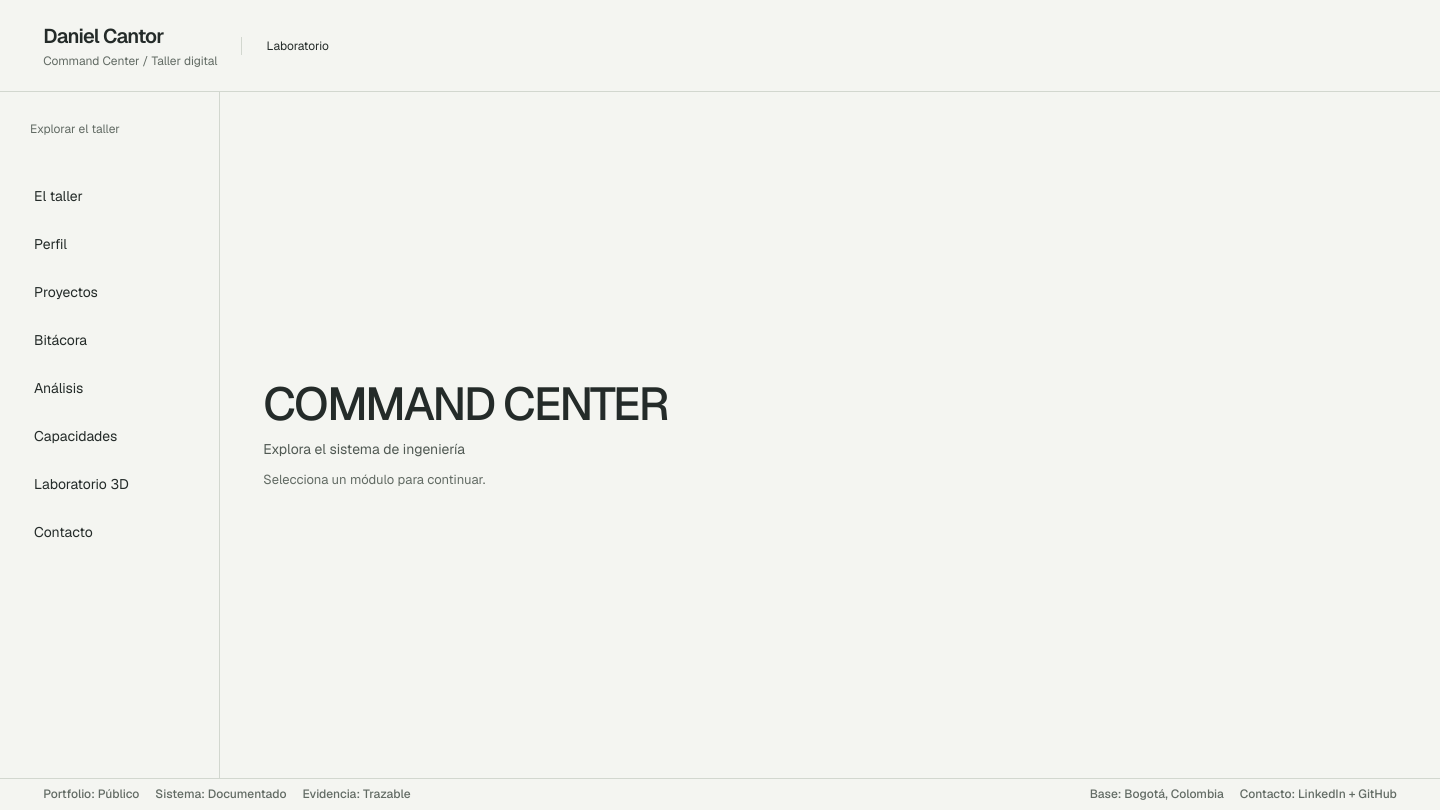
Test: AppShell › selecting a Sidebar item updates TopBar and Workspace without remounting the shell landmarks
Step 1. Click the button "Capacidades" → (110, 436), box [18,414,201,458]
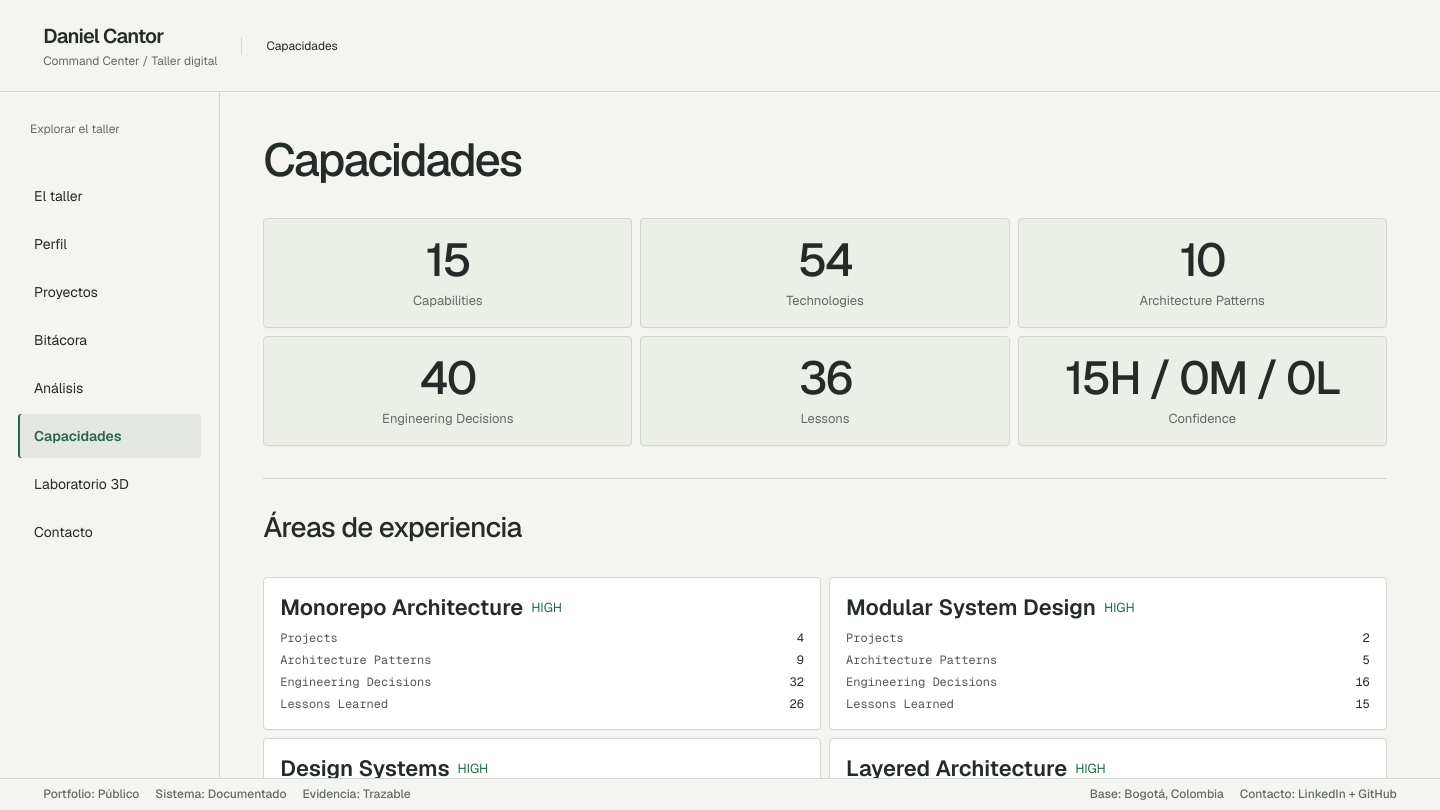
Expected: the header is shown, [0,0,1439,92]
Now the heading "Capacidades" is shown, box [263,130,521,190]
